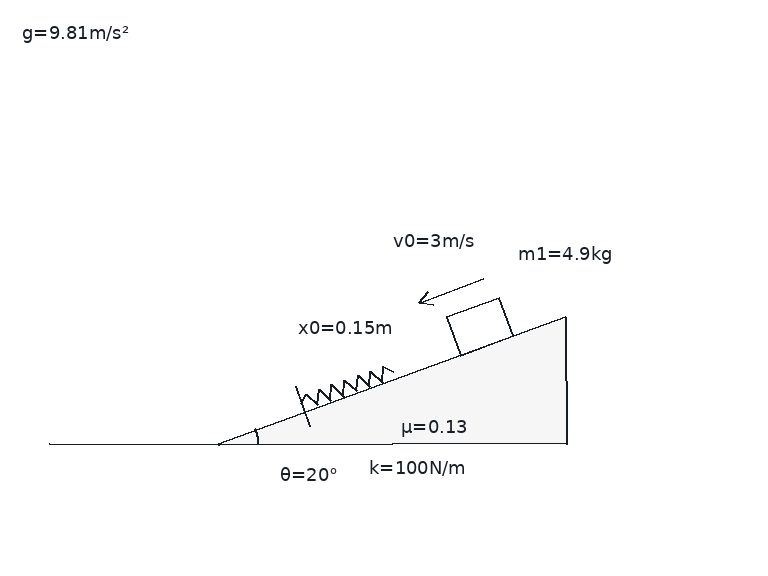block: (444, 296, 514, 357)
ramp: (216, 314, 568, 445)
spring: (300, 364, 394, 407)
